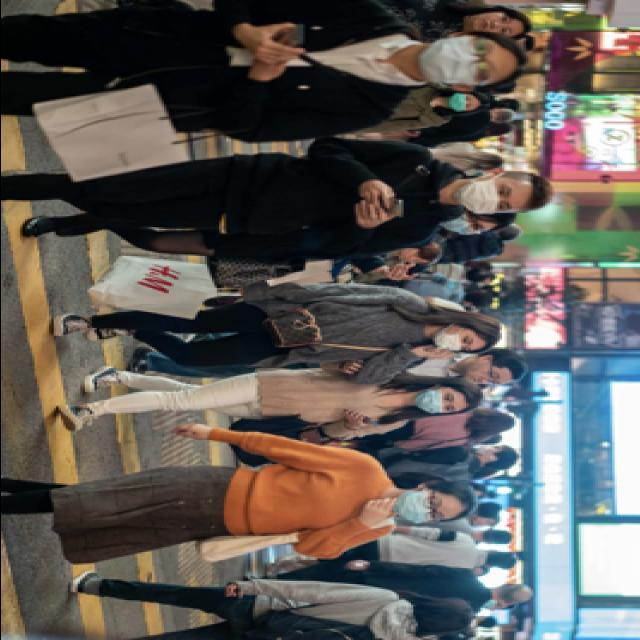mask: (417, 40, 503, 83), (460, 176, 522, 211), (393, 489, 451, 524), (414, 388, 462, 414), (431, 328, 477, 352), (446, 213, 492, 235), (474, 443, 504, 459), (451, 92, 477, 110), (484, 598, 504, 612)
no_mask: (470, 9, 518, 36), (460, 360, 508, 384), (400, 246, 424, 264)
